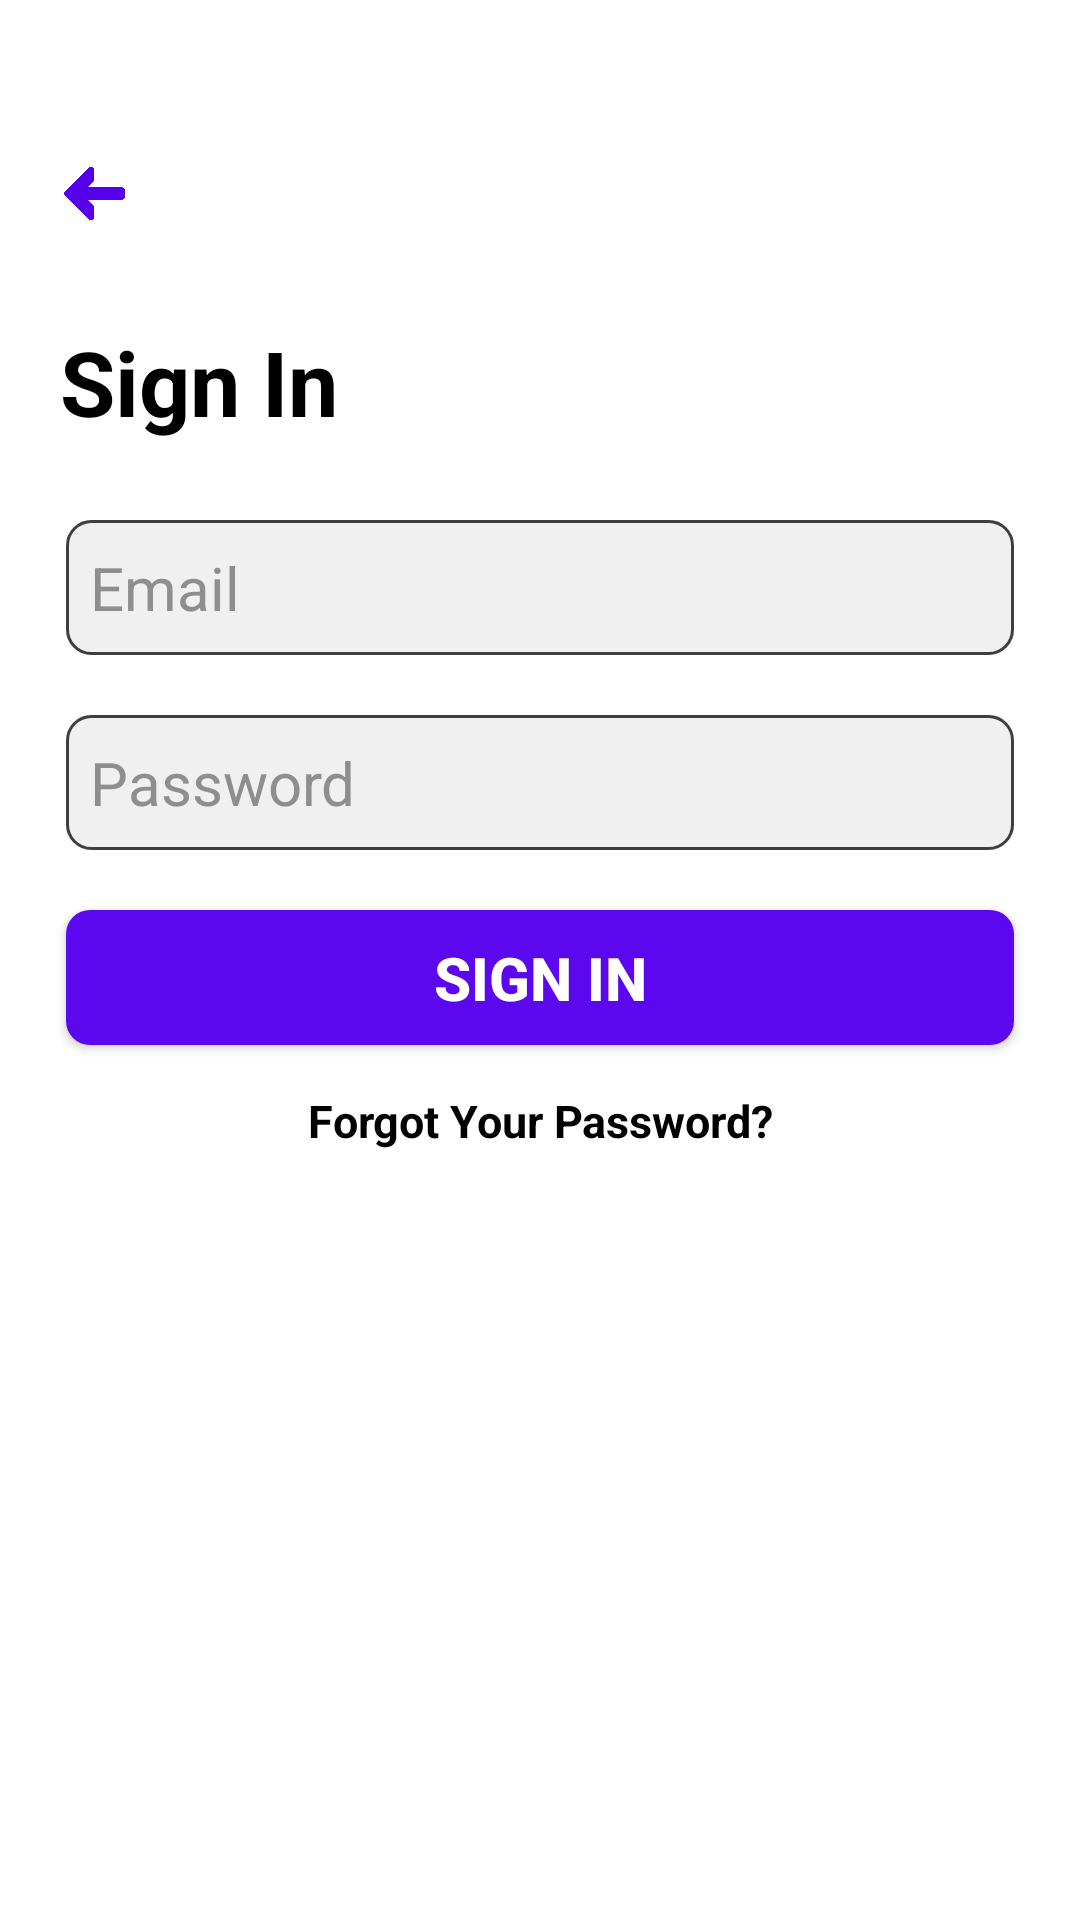

Screen size 1080 x 1920. Icon name, then its center in pixels as [x,y]:
back: [94,193]
